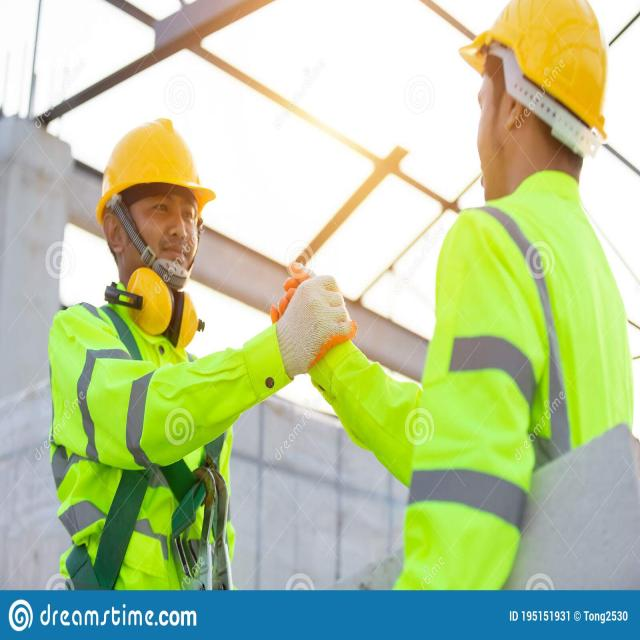gloves: (268, 254, 356, 375)
helmet: (459, 1, 610, 147), (94, 114, 218, 225)
vest: (432, 171, 634, 591), (58, 294, 233, 595)
